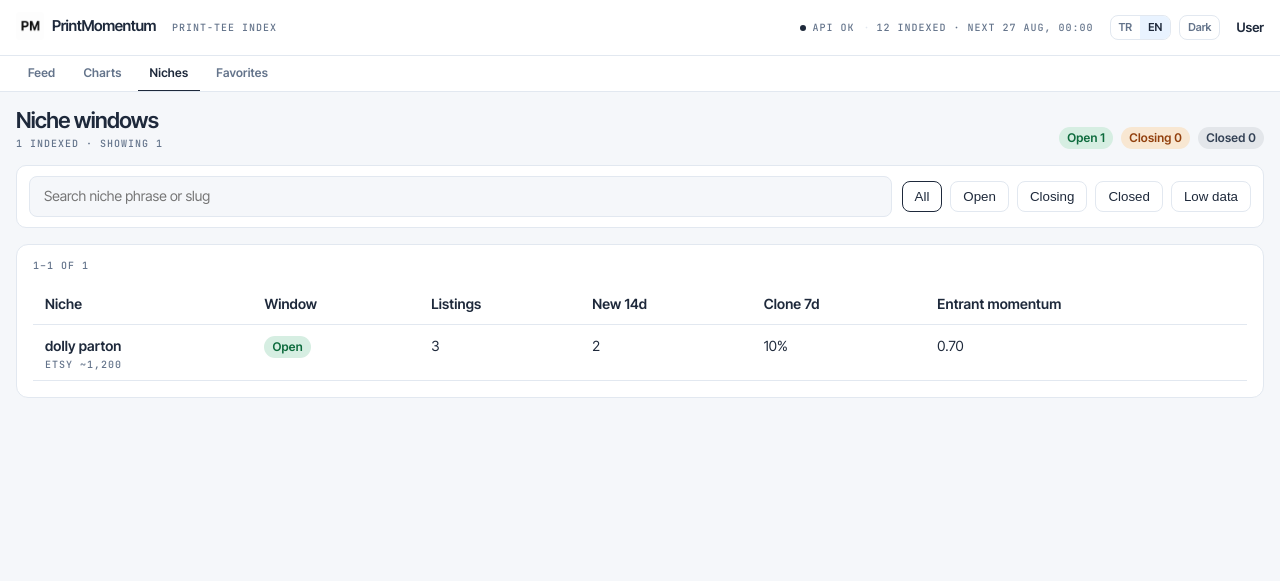
Scenario: NicheWindowsPage › navigates to feed when a row is clicked
Expected: the link "dolly parton" is shown, [45,337,122,354]
What coordinates should you click on to do the following:
click the row with class "niches-row"
I would click on:
 (640, 352)
Its box is [33,324,1247,380].
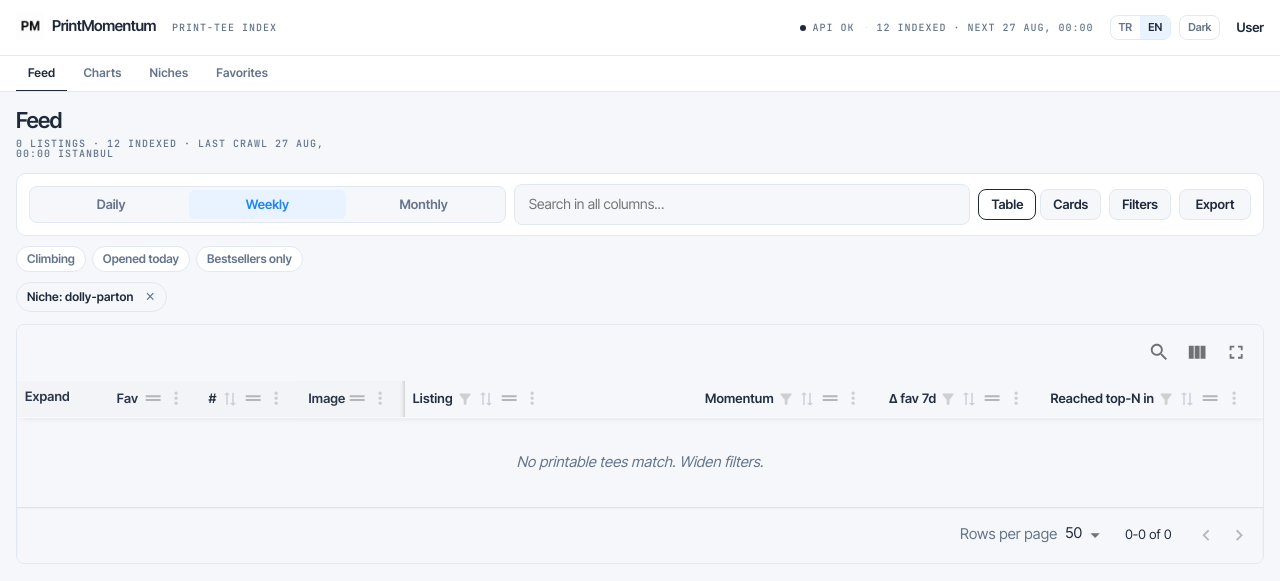
Now the heading "Feed" is shown, box [16,107,62,133]
Now the link "Niche: dolly-parton" is shown, box [27,291,134,303]
